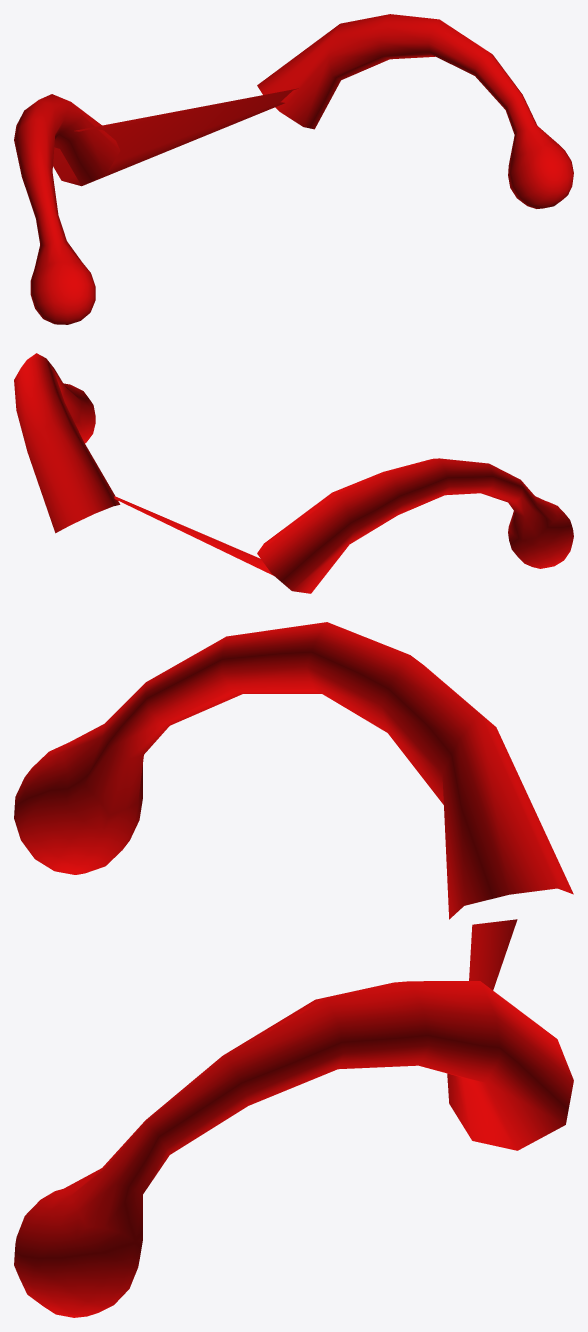
The model's file is HeadAcc_AlienAttena.glb.
The picture shows the model from 3 angles, top to bottom: view 1: azimuth 30°, elevation 25°; view 2: azimuth 150°, elevation 25°; view 3: azimuth 270°, elevation 25°; orthographic projection. The views are drawn at different scales.
Parts seen in each view (by area): view 1: HeadAcc_AlienAttena; view 2: HeadAcc_AlienAttena; view 3: HeadAcc_AlienAttena.
Part boxes in pixels (bbox=[...]): HeadAcc_AlienAttena: bbox=[14, 14, 573, 324]; HeadAcc_AlienAttena: bbox=[14, 353, 573, 593]; HeadAcc_AlienAttena: bbox=[14, 622, 573, 1317].
Size of the model in its own units: 0.2654 by 0.0697 by 0.1266.
